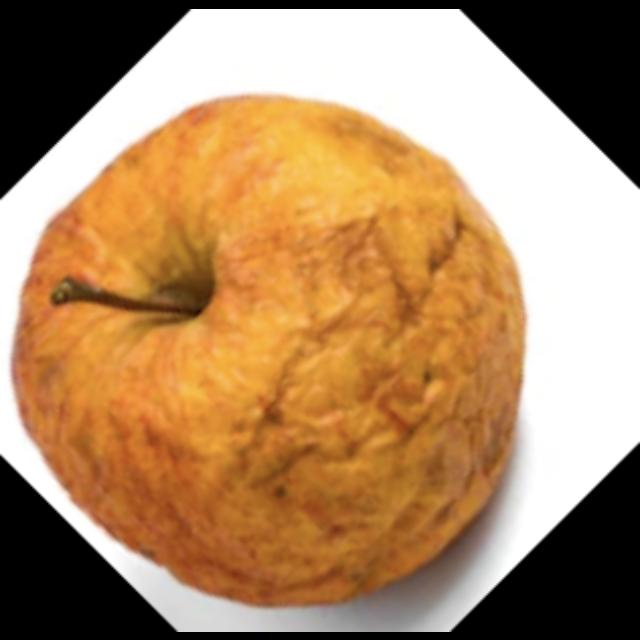Apel Tidak Segar: (17, 86, 520, 602)
